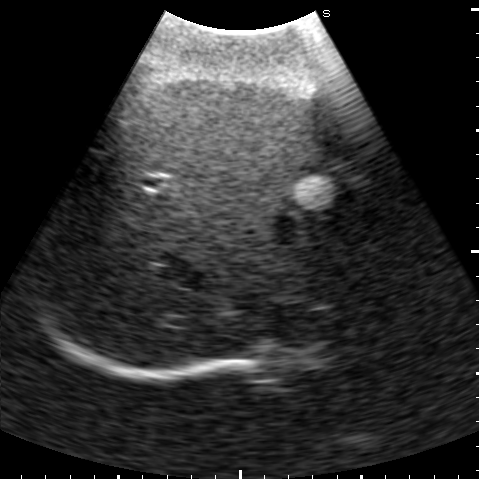S5: (112, 79, 341, 202)
S7: (37, 153, 147, 307)
S8: (85, 198, 358, 367)
Tumor: (292, 176, 334, 209)
